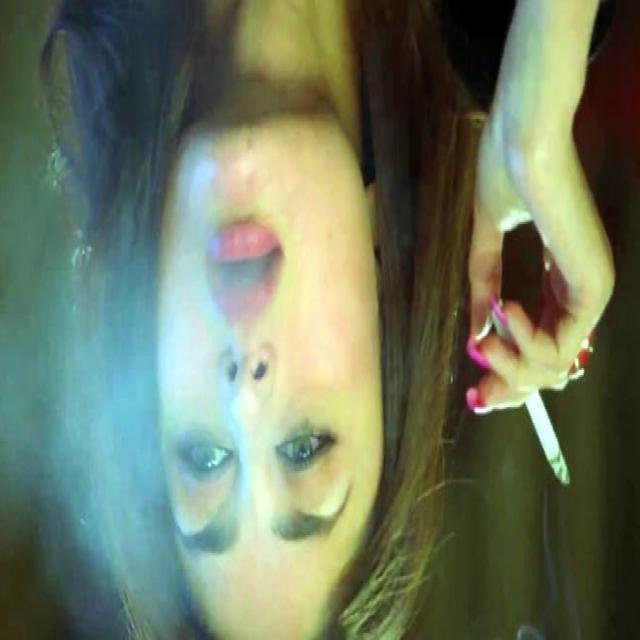cigarette: (447, 257, 585, 503)
